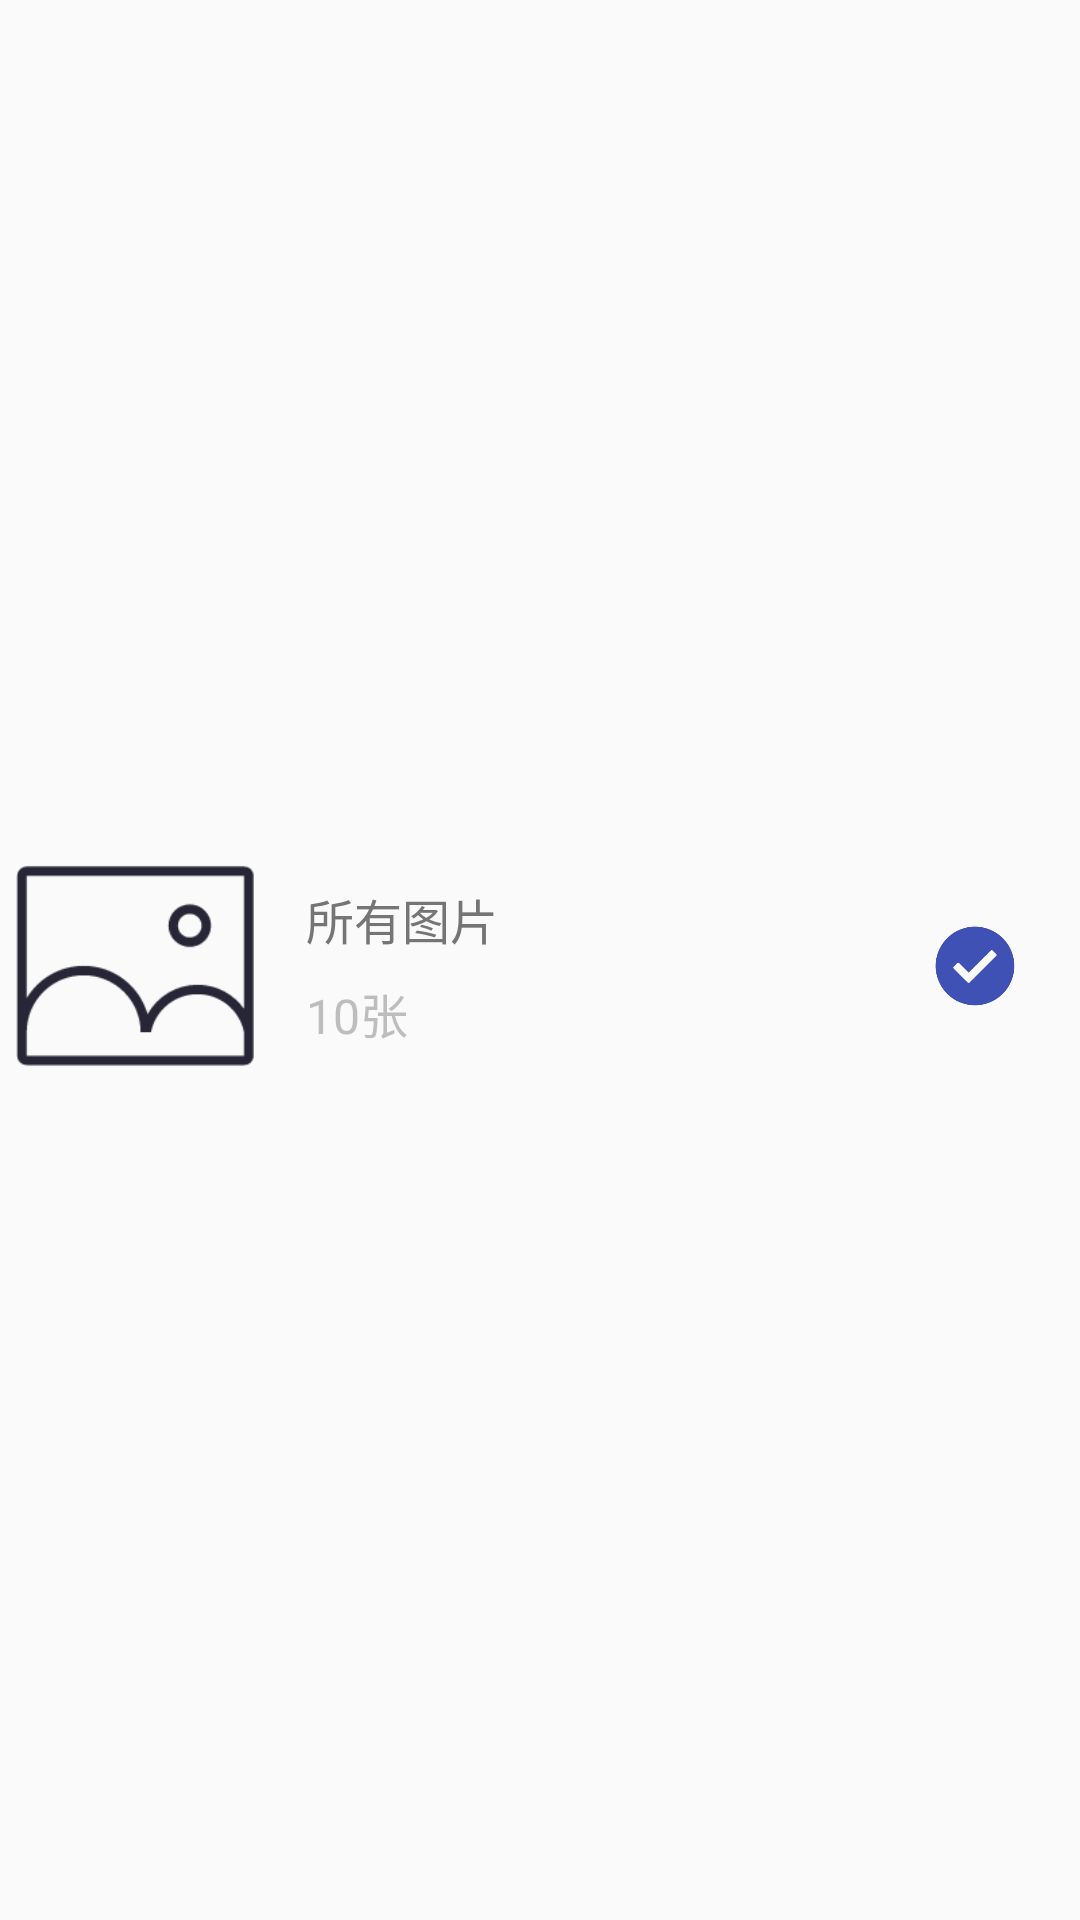

Where icons sit on this 1080*1920 app screen, as (x1, y1, x2, y2):
photo folder select: (935, 926, 1015, 1006)
